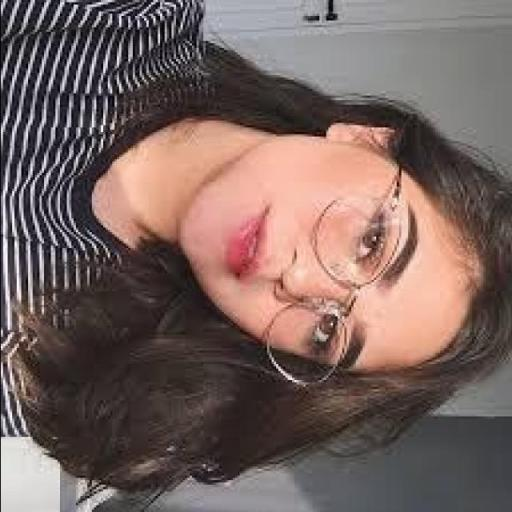glasses: (247, 184, 413, 400)
